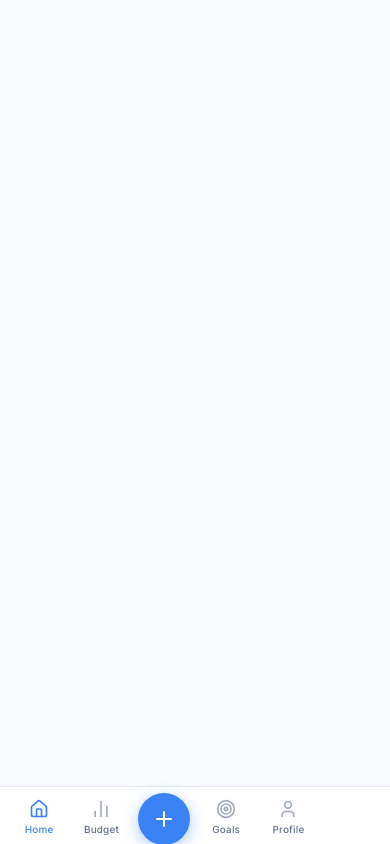
it: FabRadial › opens radial menu on FAB click
The width and height of the screenshot is (390, 844).
Click the button with class "bottom-tab-bar__fab": click(164, 819) [138,793,190,843]
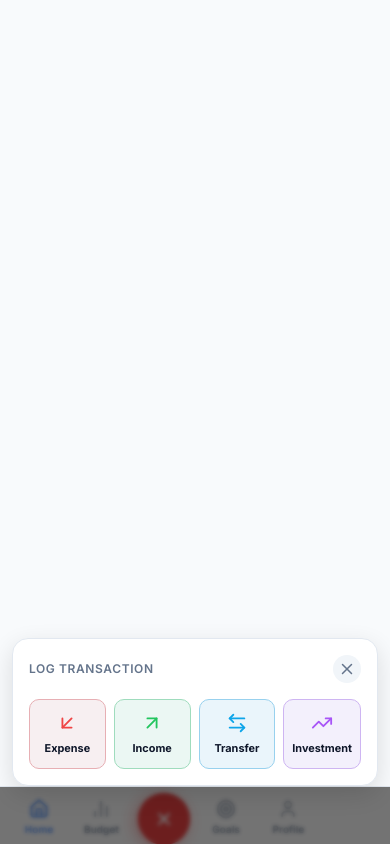
Now the text "Expense" is shown, box [45,740,90,756]
Now the text "Income" is shown, box [132,740,172,756]
Now the text "Transfer" is shown, box [214,740,260,756]
